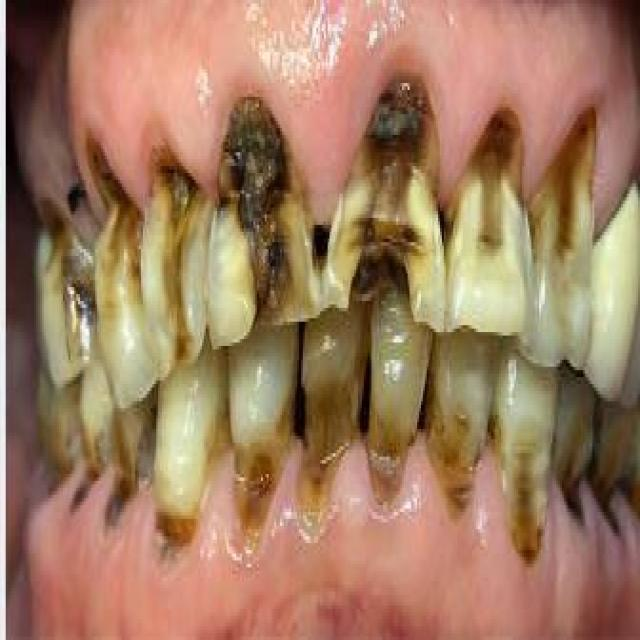caries: (321, 63, 448, 334), (206, 81, 321, 336), (529, 98, 602, 373), (450, 96, 530, 339), (86, 129, 148, 405), (141, 136, 210, 374), (295, 345, 366, 537), (226, 374, 292, 556), (35, 192, 93, 378), (496, 402, 552, 576), (426, 383, 488, 531), (363, 399, 429, 514), (99, 394, 149, 545), (66, 408, 110, 529), (591, 419, 633, 542), (148, 478, 200, 571), (553, 409, 589, 535)
